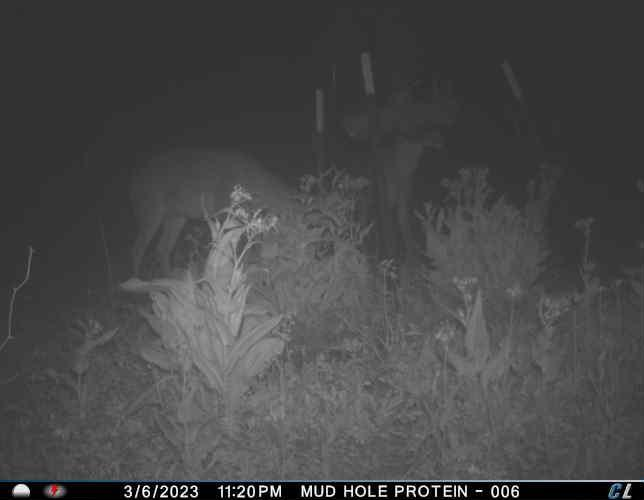Deer: (124, 142, 306, 276), (374, 78, 457, 259)
